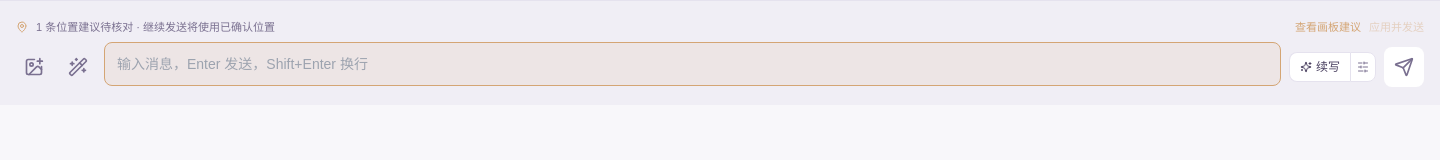
Test: ChatInput › 阶段 3：应用位置后发送 › 等待位置提交完成才发送，并阻止等待期间重复点击普通发送
The width and height of the screenshot is (1440, 160).
Type "继续" into the text box with placeholder "输入消息，Enter 发送，Shift+Enter 换行".
click(692, 64); type("继续")  # box [104,42,1281,86]
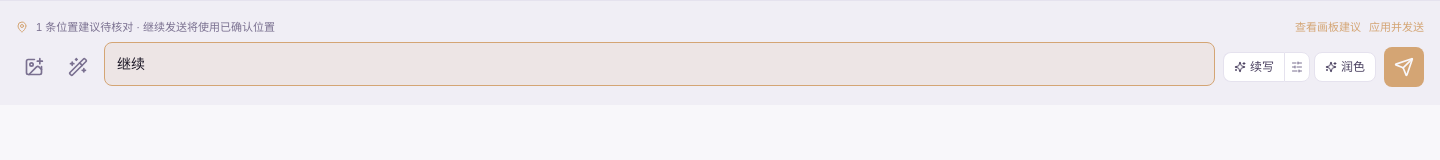
Click the button "应用并发送".
click(1396, 27)  # box [1369,19,1424,36]
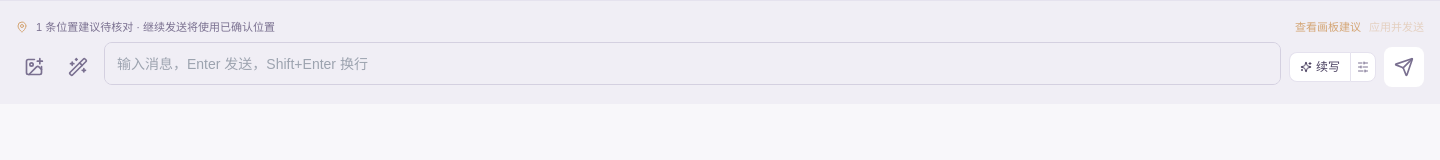
Now the button titled "发送" is disabled, box [1384,46,1424,86]
Now the text box with placeholder "输入消息，Enter 发送，Shift+Enter 换行" is empty, box [104,42,1281,84]
